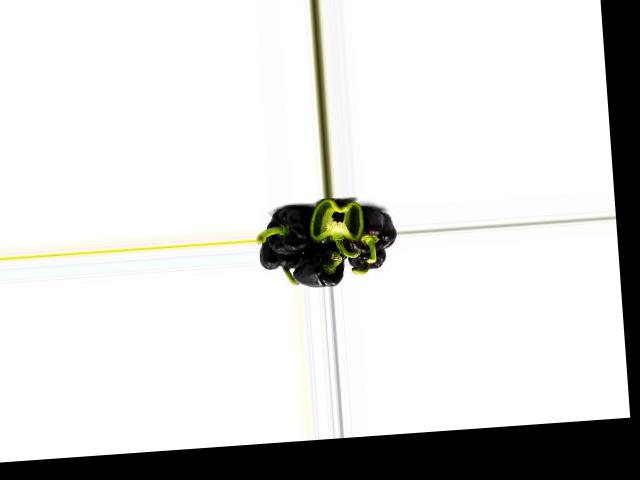bell_pepper: (336, 208, 396, 255)
